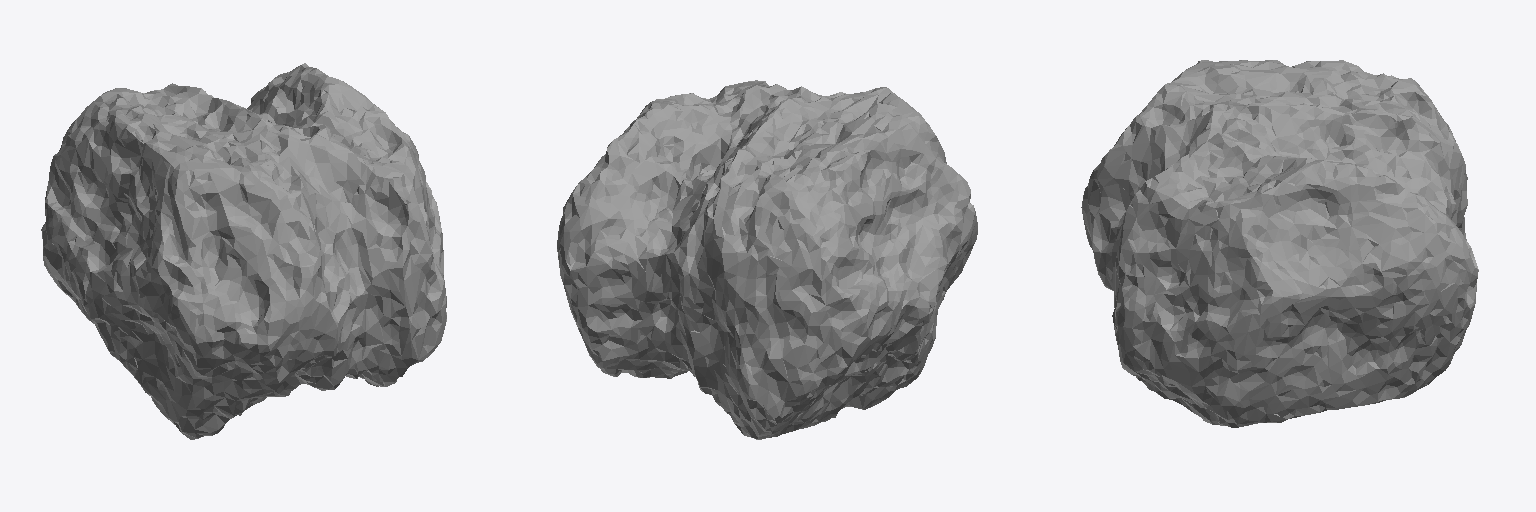
Rendered from Asteroid_3_LOW_MODEL_.obj.
3 views of the same model, side by side, from view 1: azimuth 30°, elevation 25°; view 2: azimuth 150°, elevation 25°; view 3: azimuth 270°, elevation 25° (orthographic).
Visible parts, largest first — view 1: Asteroid_3_LOW_MODEL__Reduced_Asteroid_3_LOW_MODEL__Cube.002; view 2: Asteroid_3_LOW_MODEL__Reduced_Asteroid_3_LOW_MODEL__Cube.002; view 3: Asteroid_3_LOW_MODEL__Reduced_Asteroid_3_LOW_MODEL__Cube.002.
Part boxes in pixels (x1,y1,x2,y2): Asteroid_3_LOW_MODEL__Reduced_Asteroid_3_LOW_MODEL__Cube.002: (41, 63, 446, 439); Asteroid_3_LOW_MODEL__Reduced_Asteroid_3_LOW_MODEL__Cube.002: (557, 80, 977, 439); Asteroid_3_LOW_MODEL__Reduced_Asteroid_3_LOW_MODEL__Cube.002: (1081, 60, 1478, 427).
Bounding box in the file's own units: 1.96 × 1.67 × 2.02.